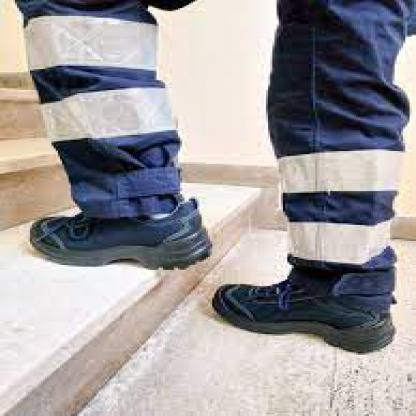bota: (207, 278, 399, 360), (27, 196, 218, 273)
